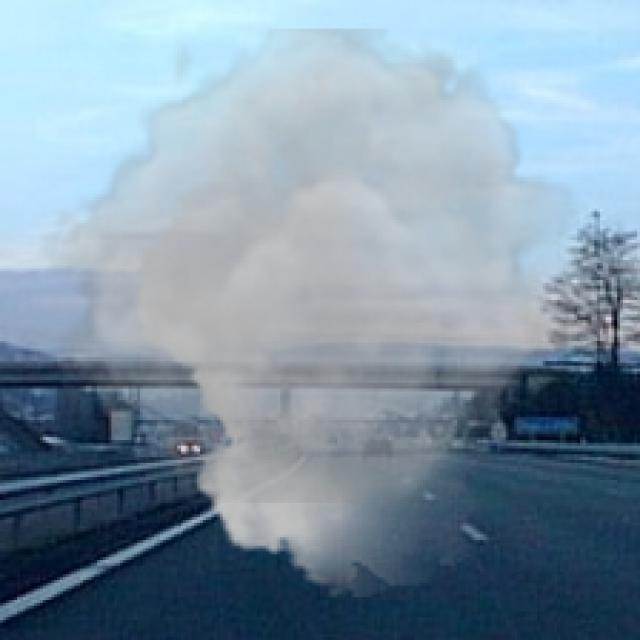smoke: (37, 29, 580, 597)
